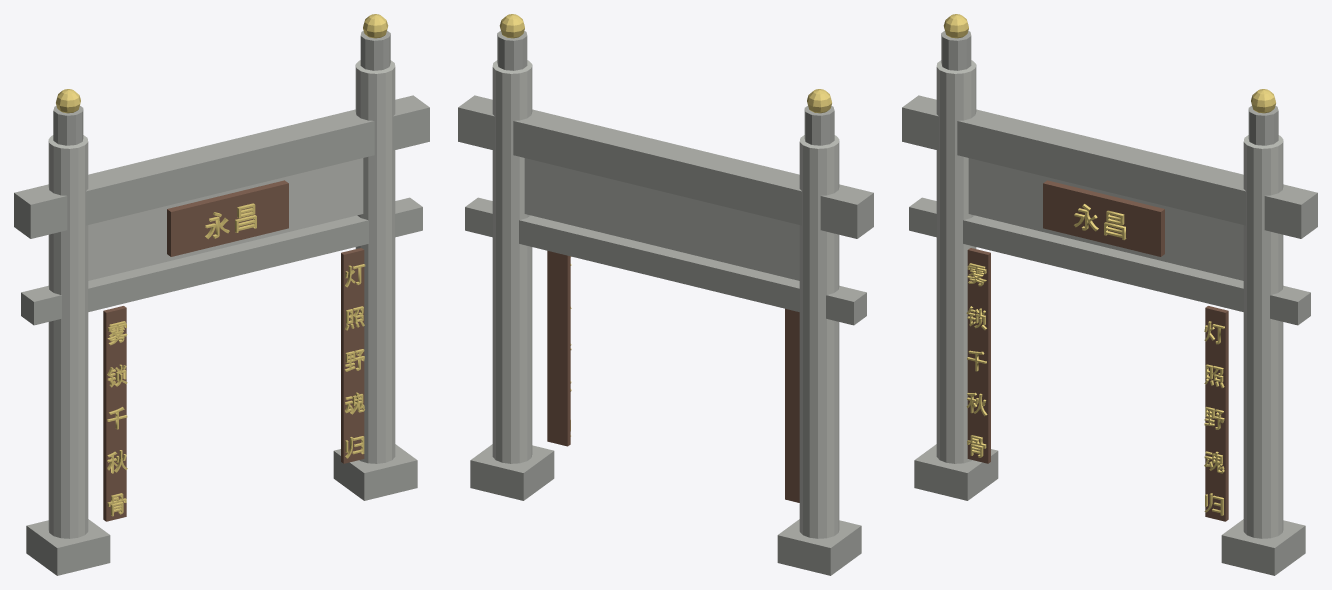
Rendered from paifang.glb.
3 renders of one model, left to right at view 1: azimuth 30°, elevation 25°; view 2: azimuth 150°, elevation 25°; view 3: azimuth 330°, elevation 25°, orthographic.
Visible parts, largest first — view 1: paifang; view 2: paifang; view 3: paifang.
Part boxes in pixels (x1,y1,x2,y2): paifang: (14, 14, 429, 575); paifang: (458, 14, 873, 575); paifang: (902, 14, 1317, 575).
Bounding box in the file's own units: 3.9 × 4.37 × 0.52.
